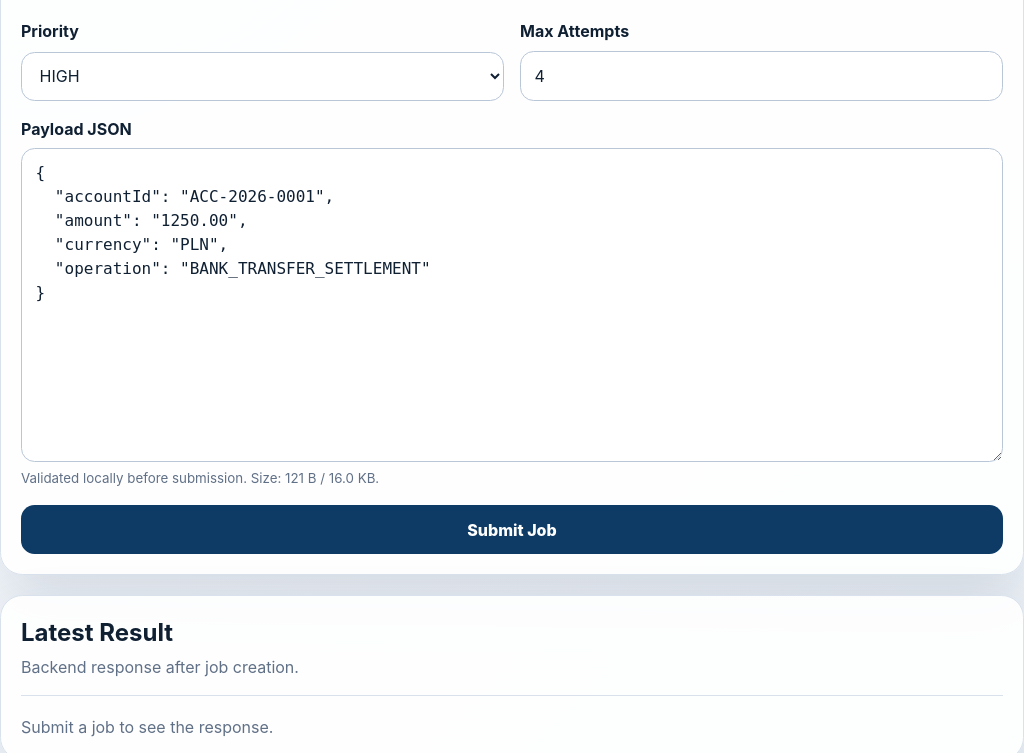
Test: CreateJobPage › submits a valid job request
(page scrolled)
What coordinates should you click on to do the following:
click the button "Submit Job"
I would click on:
 (512, 530)
Its box is [21,505,1003,554].
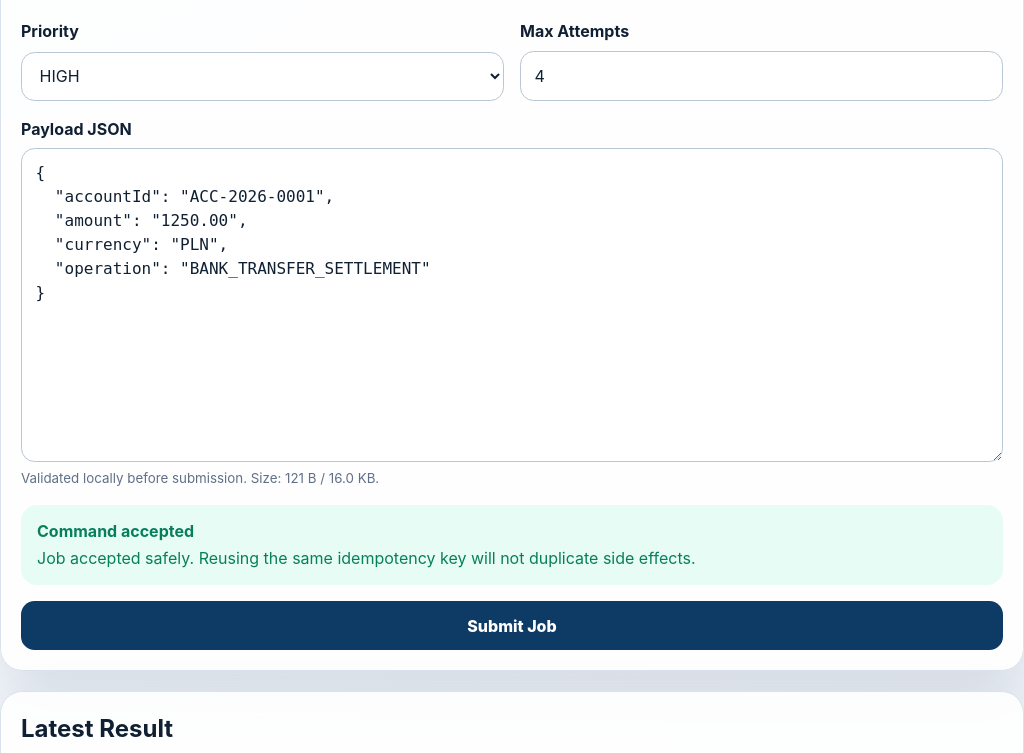
Check: the text "Job accepted safely" is shown, box [37,548,696,568]
